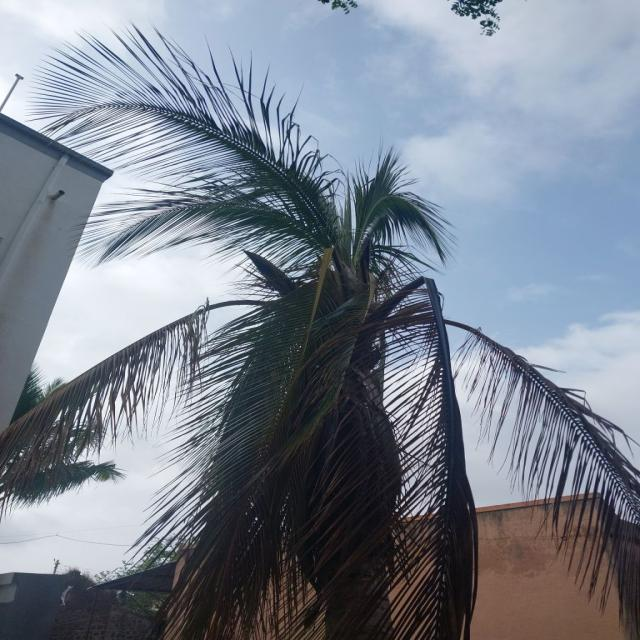bud root dropping: (3, 29, 638, 640)
